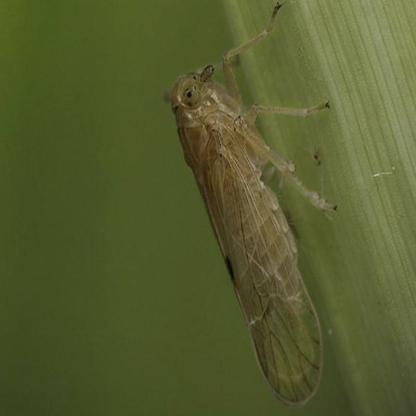brown-planthopper: (160, 44, 325, 407)
